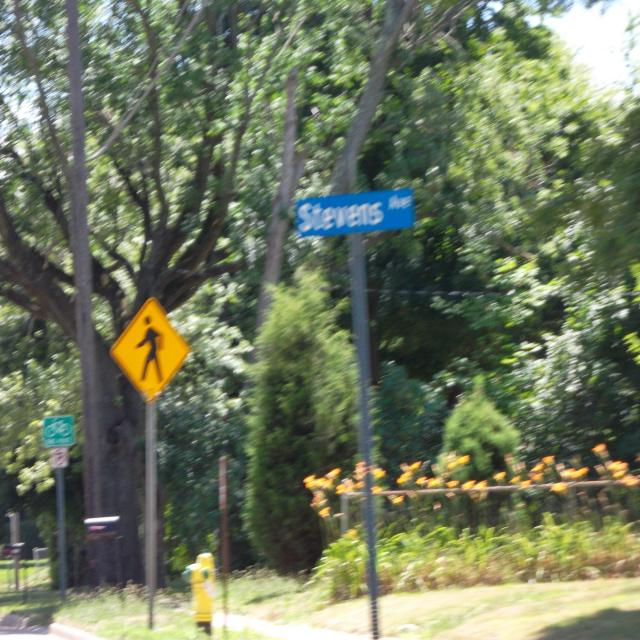regulatory: (50, 447, 69, 469)
warning: (108, 296, 194, 402), (165, 342, 165, 343)
